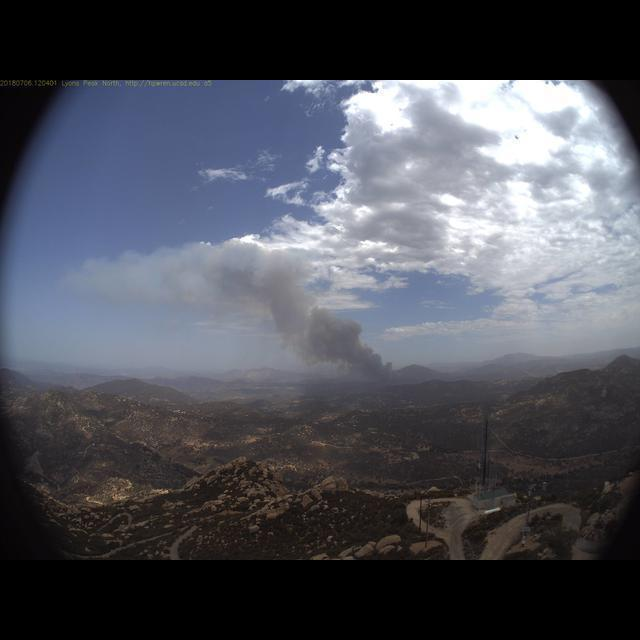Smoke: (99, 237, 415, 395)
